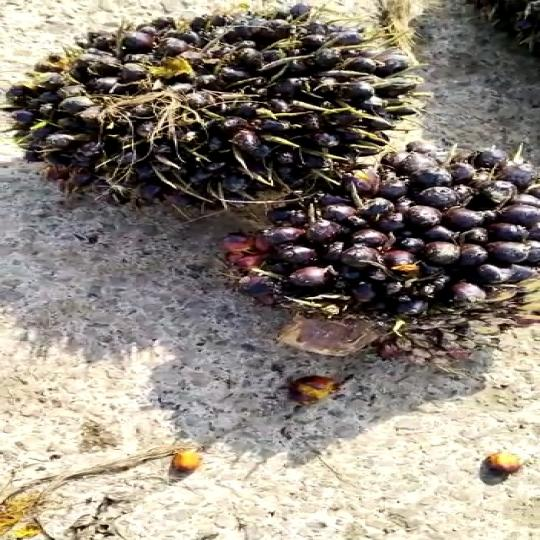mentah: (10, 9, 412, 203), (270, 147, 540, 359)
